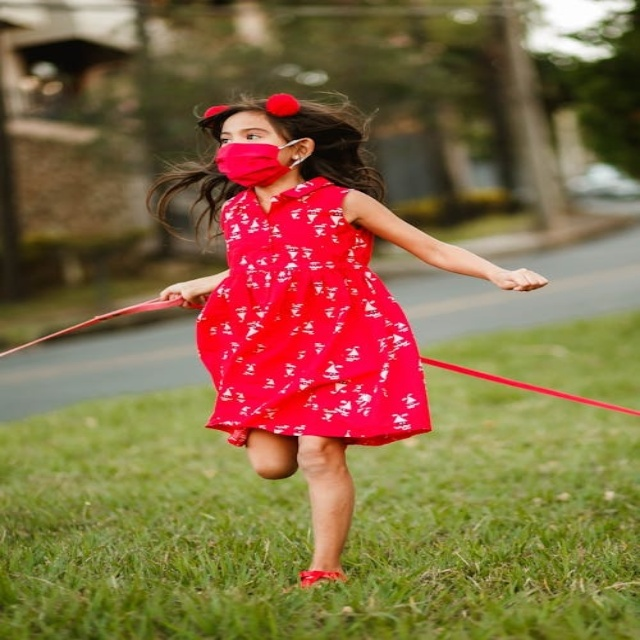Mascara: (216, 138, 304, 187)
Sin_gafas: (215, 126, 269, 142)
Sin_guantes: (494, 267, 550, 292), (159, 278, 206, 306)
